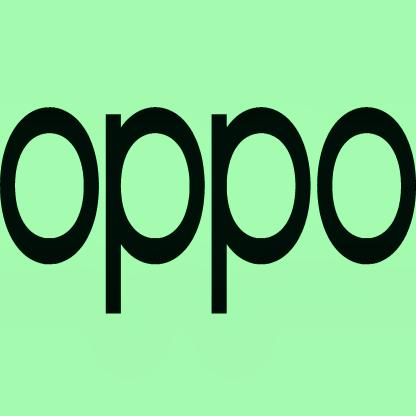Oppo: (0, 100, 416, 325)
